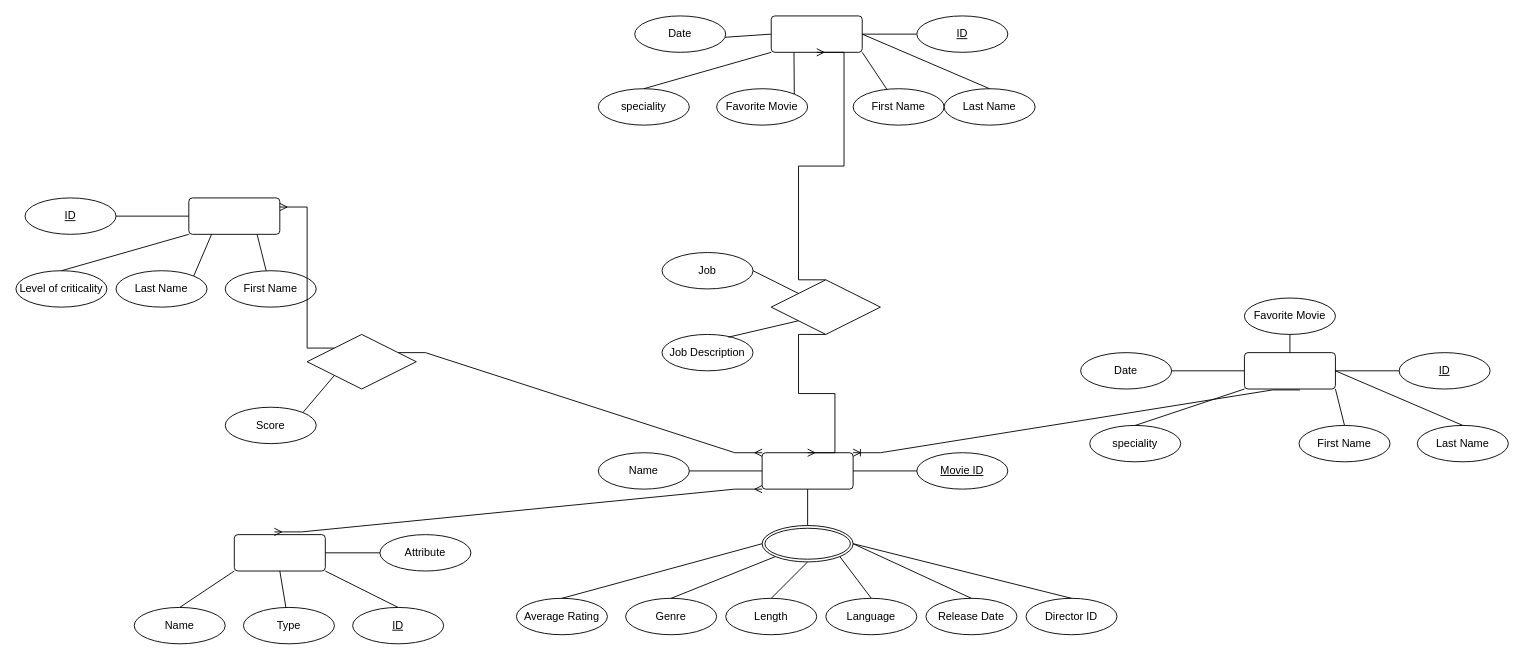
Image size: 1524x660. Some labels were removed from this diagram. The centre of each missing label's shape, as x and y in pixels:
Actor: point 816,33
Cast: point 825,306
Critic: point 234,215
Director: point 1289,370
Entertainment service: point 279,552
Movie: point 807,470
Movie Details: point 807,543
Rating: point 361,361
